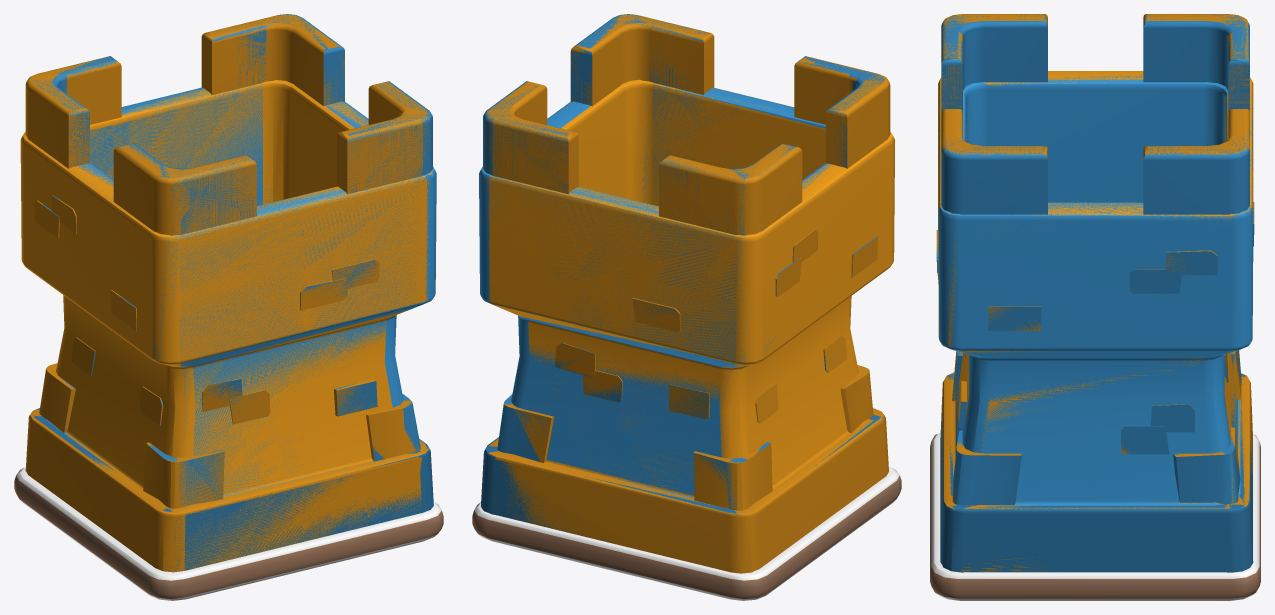
File: Castle_Blocks.fbx
3 views of the same model, side by side, from view 1: azimuth 30°, elevation 25°; view 2: azimuth 150°, elevation 25°; view 3: azimuth 270°, elevation 25° (orthographic). The views are drawn at different scales.
Visible parts, largest first — view 1: Castle_V01, Castle_V03, Block_wood; view 2: Castle_V01, Castle_V03, Block_wood; view 3: Castle_V03, Castle_V01, Block_wood.
Boxes of the visible parts, <box> form: Castle_V01: <box>20,14,432,572</box>; Castle_V03: <box>32,14,436,571</box>; Block_wood: <box>14,467,443,600</box>; Castle_V01: <box>482,14,894,573</box>; Castle_V03: <box>479,14,884,571</box>; Block_wood: <box>472,466,901,600</box>; Castle_V03: <box>936,14,1254,572</box>; Castle_V01: <box>936,14,1254,572</box>; Block_wood: <box>930,432,1260,600</box>.
Bounding box in the file's own units: 1.57 × 2.15 × 1.45.
